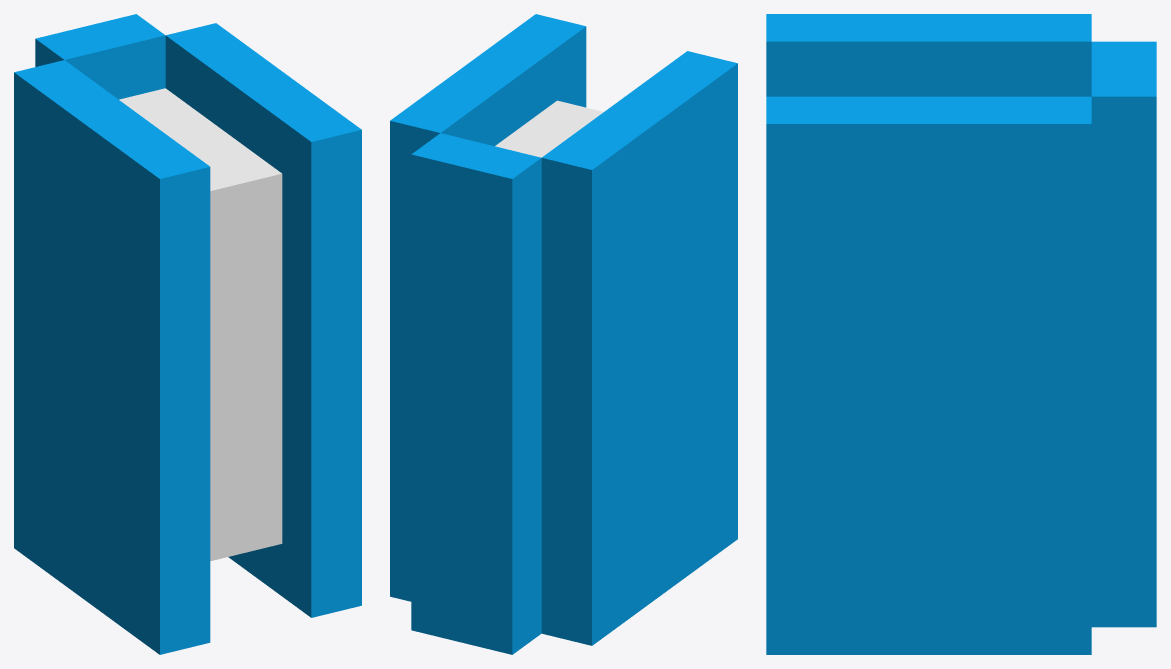
The model's file is Books.vox-5.obj.
3 renders of one model, left to right at view 1: azimuth 30°, elevation 25°; view 2: azimuth 150°, elevation 25°; view 3: azimuth 270°, elevation 25°, orthographic. The views are drawn at different scales.
Size of the model in its own units: 0.4 by 0.9 by 0.6.
1 material, 1 textured.
